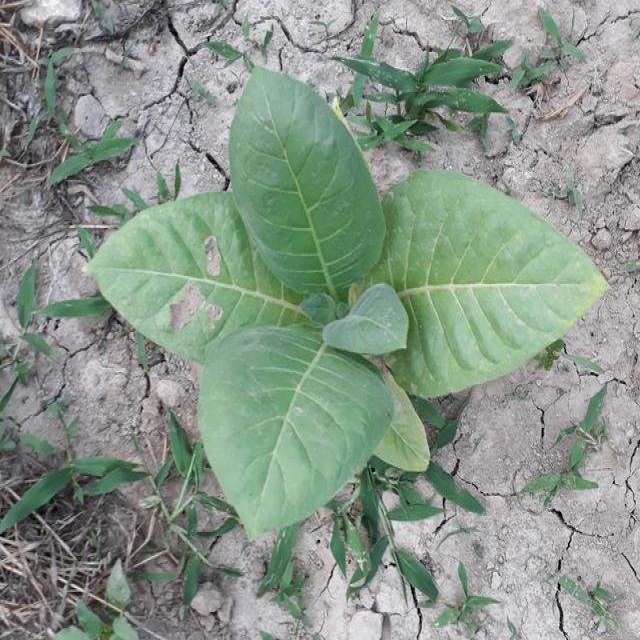crop: (89, 78, 607, 547)
